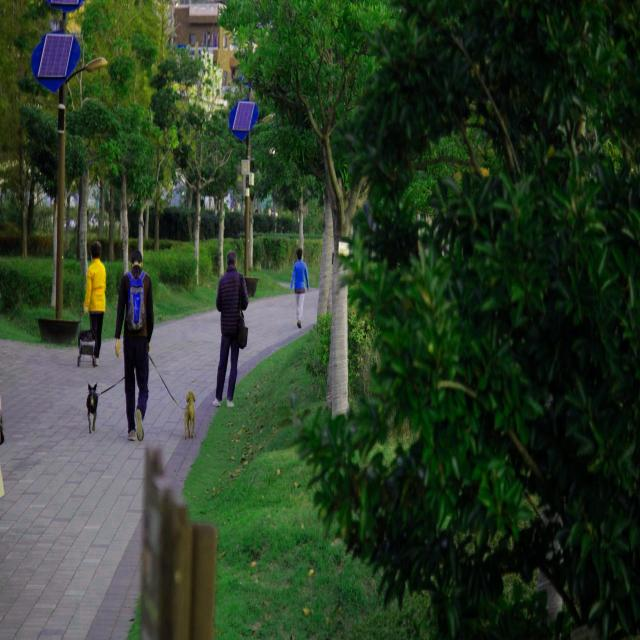Leashed_Dog: (140, 345, 195, 441), (87, 349, 132, 433)
